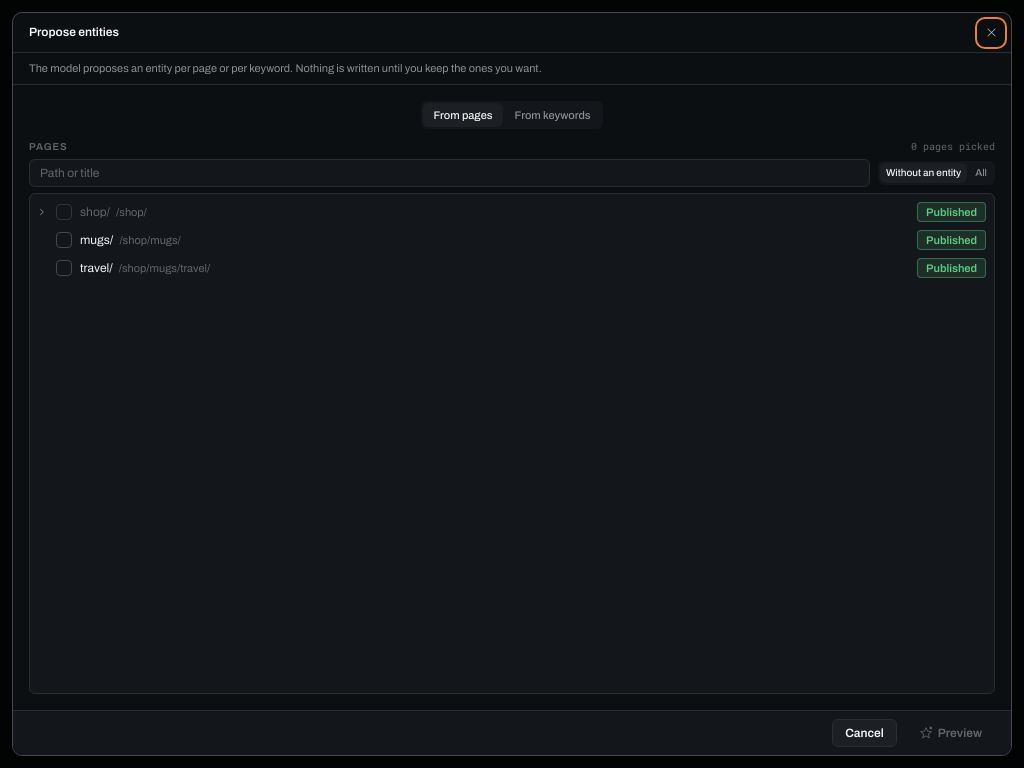
Test: the entity proposal drawer › previews the picked pages from the model, writes only the kept proposals and reports what landed
Expected: the button "Preview" is disabled, [905,719,995,747]
What coordinates should you click on to do the following:
click the checkbox labelled "mugs/"
I would click on:
 (85, 240)
Its box is [56,232,113,248].
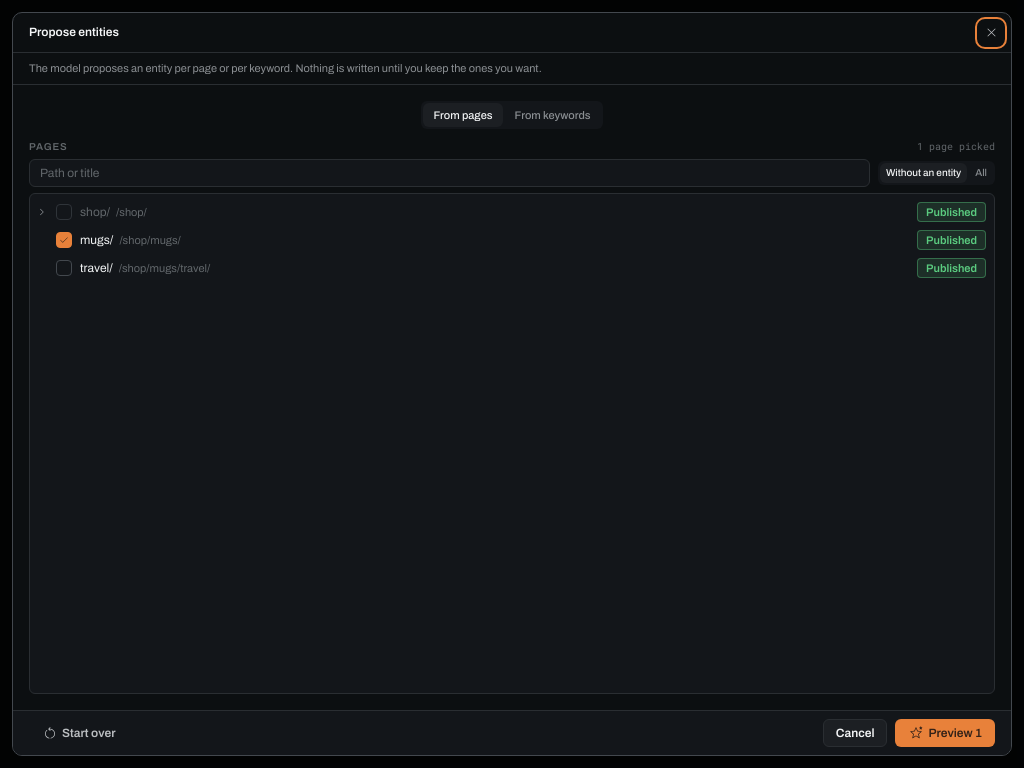
What coordinates should you click on to do the following:
click the checkbox labelled "travel/"
I would click on:
 (84, 268)
Its box is [56,260,113,276].
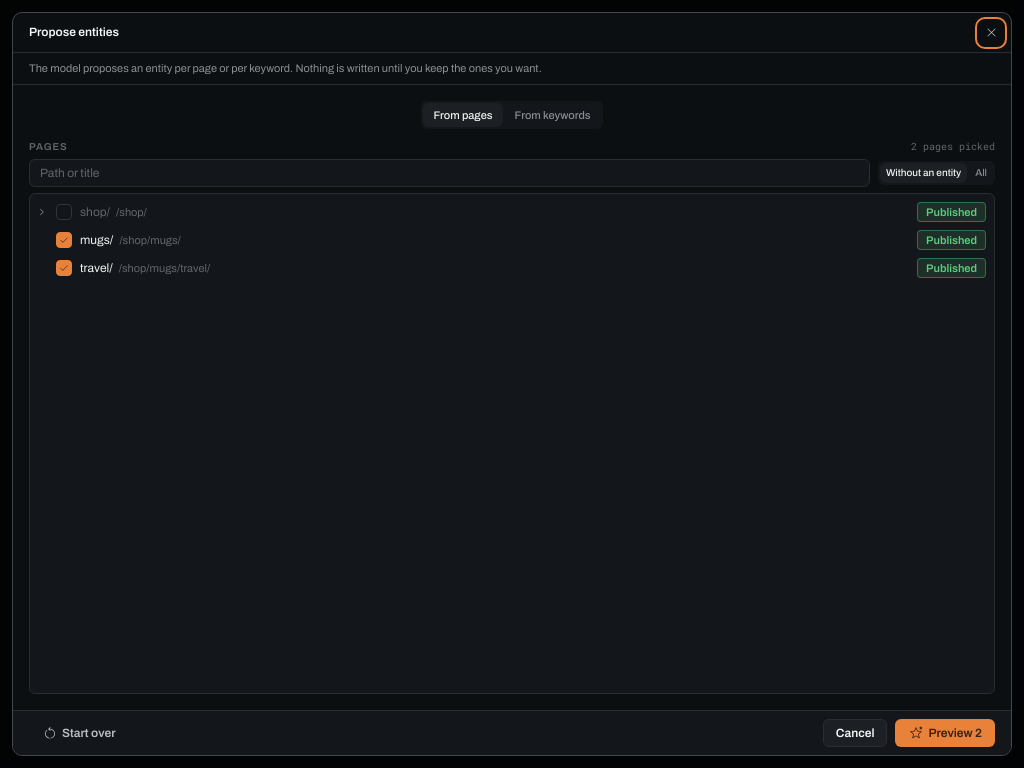
What coordinates should you click on to do the following:
click the button "Preview 2"
I would click on:
 (945, 733)
Its box is [896,719,995,747].
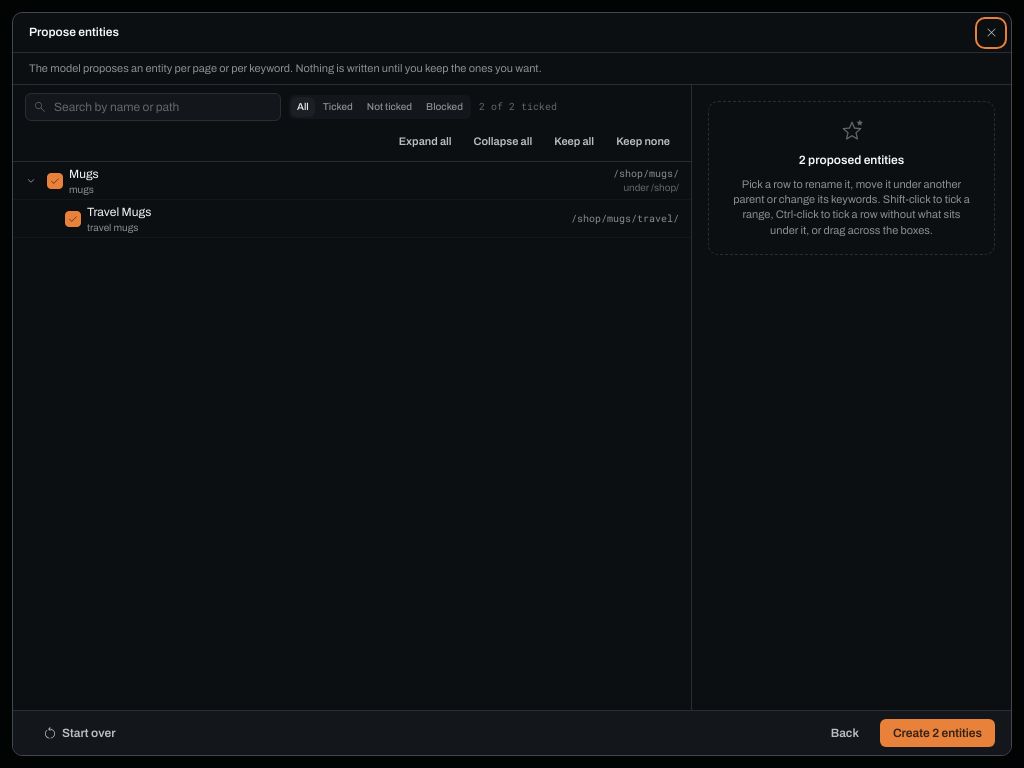
What coordinates should you click on to do the following:
click the checkbox named "Travel Mugs at /shop/mugs/travel/"
I would click on:
 (73, 219)
Its box is [65,211,81,227].
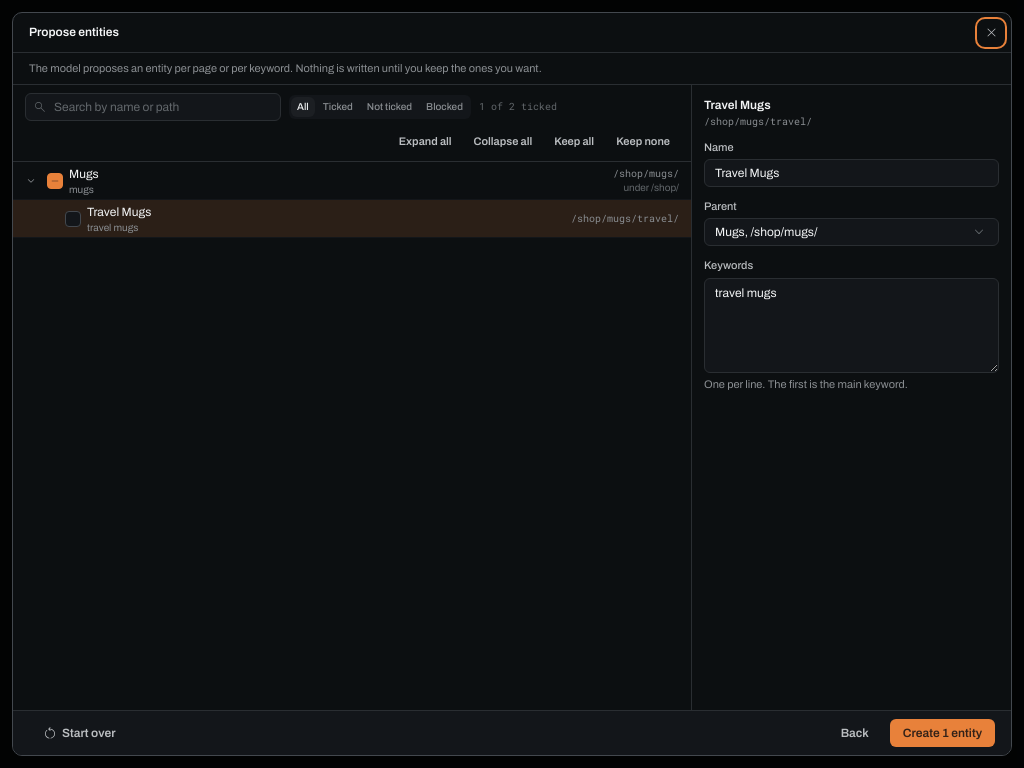
What coordinates should you click on to do the following:
click the button "Create 1 entity"
I would click on:
 (942, 733)
Its box is [890,719,995,747].
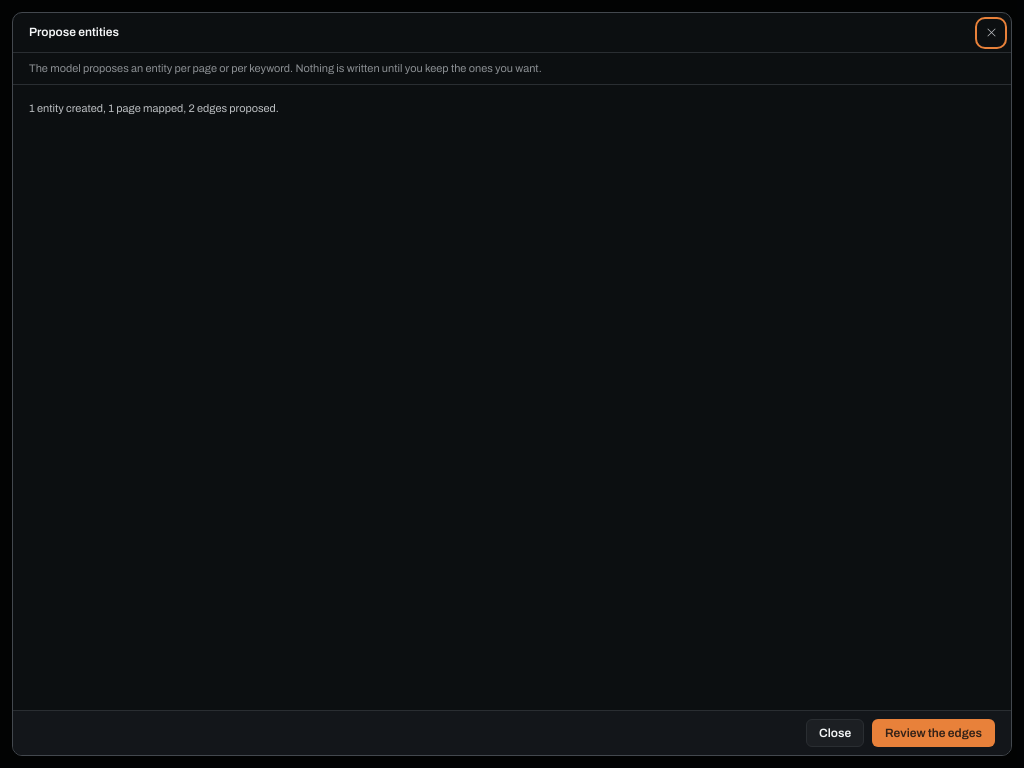
Expected: the button "Review the edges" is shown, [872,719,995,747]
